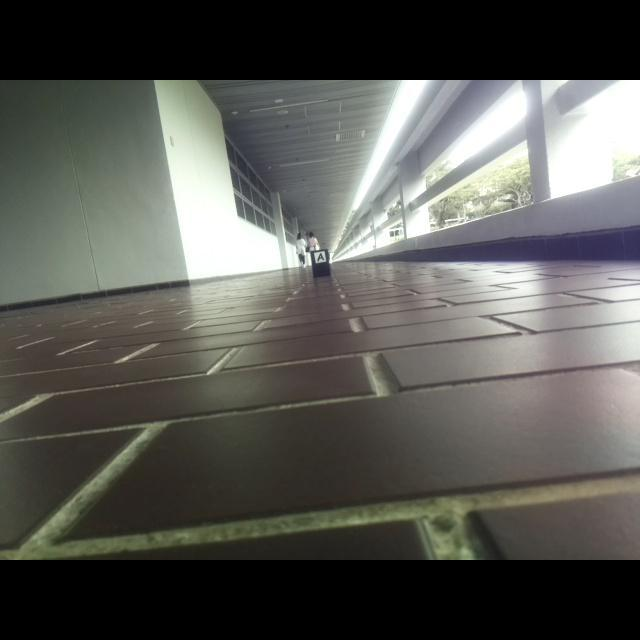A: (317, 253, 327, 263)
